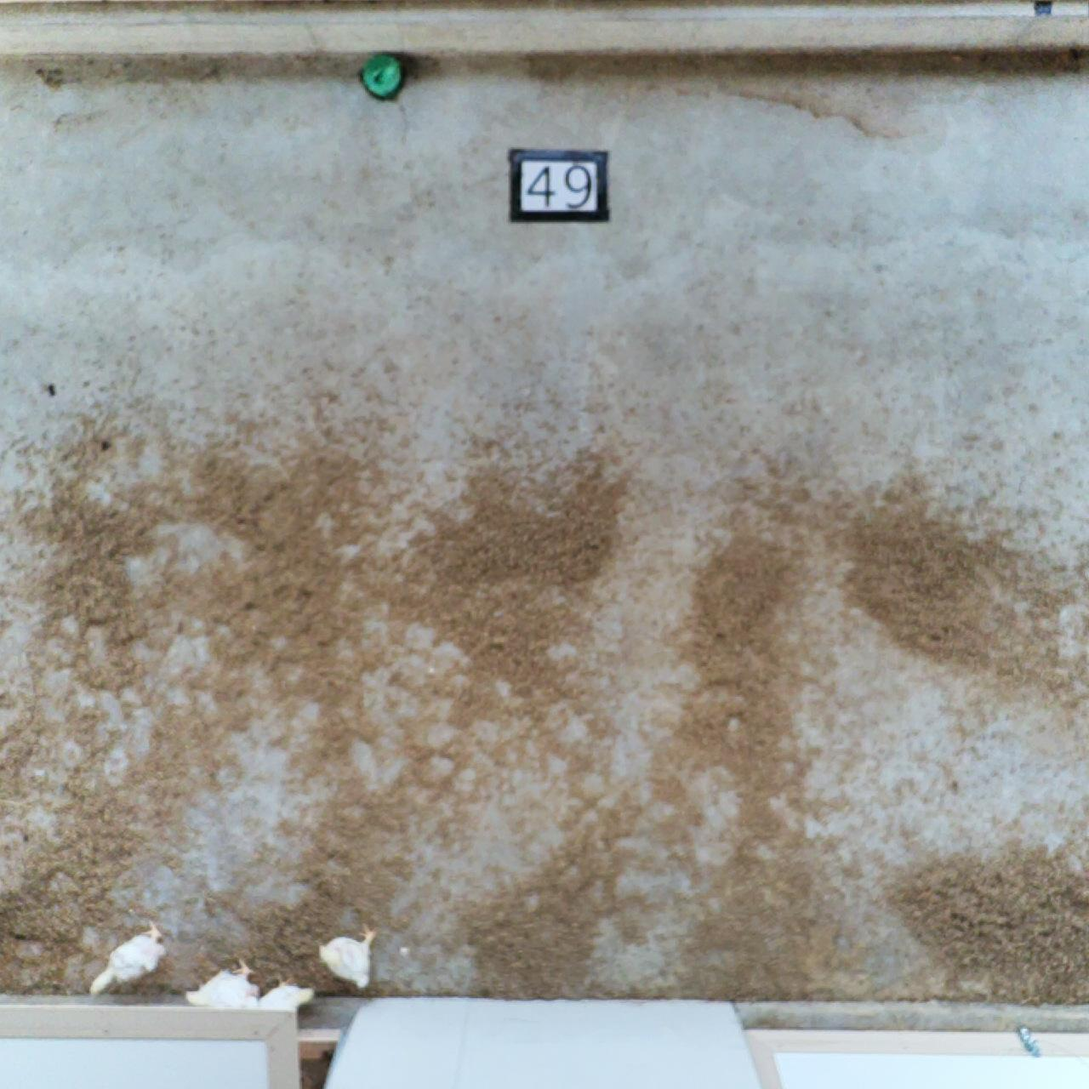chicken: (91, 923, 164, 1000), (182, 966, 264, 1018), (318, 929, 383, 992), (255, 986, 328, 1014)
